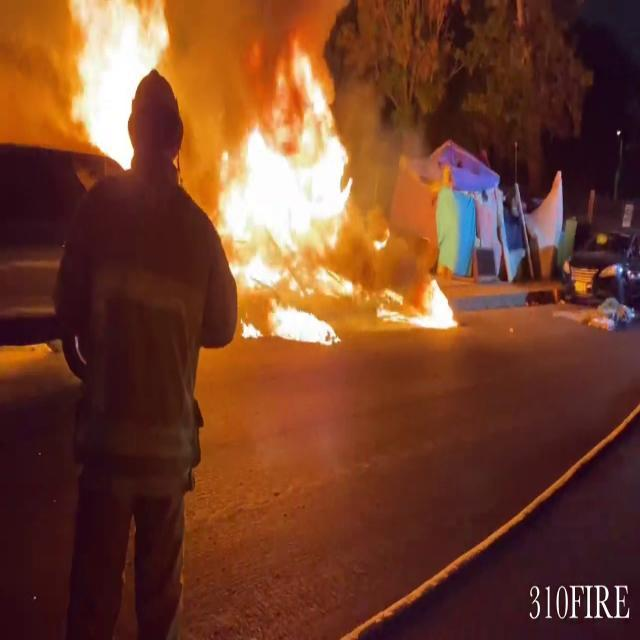Fire: (212, 34, 388, 338), (51, 0, 185, 167), (414, 272, 464, 332)
